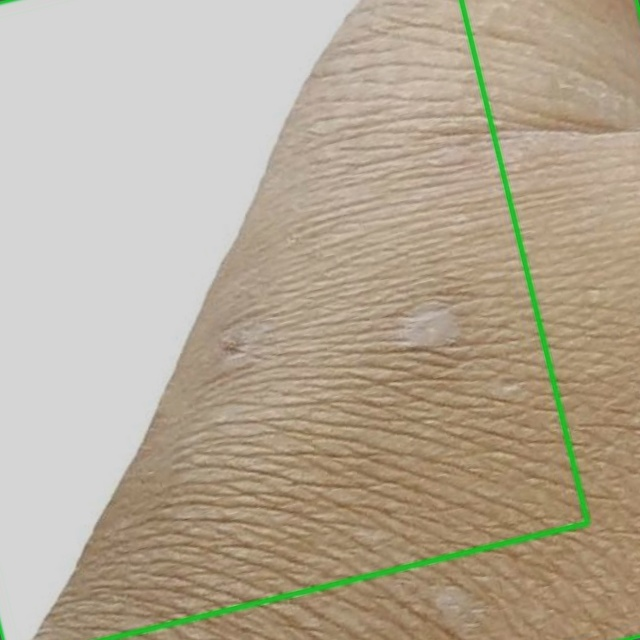Scabies: (0, 0, 639, 639), (0, 0, 587, 639)
